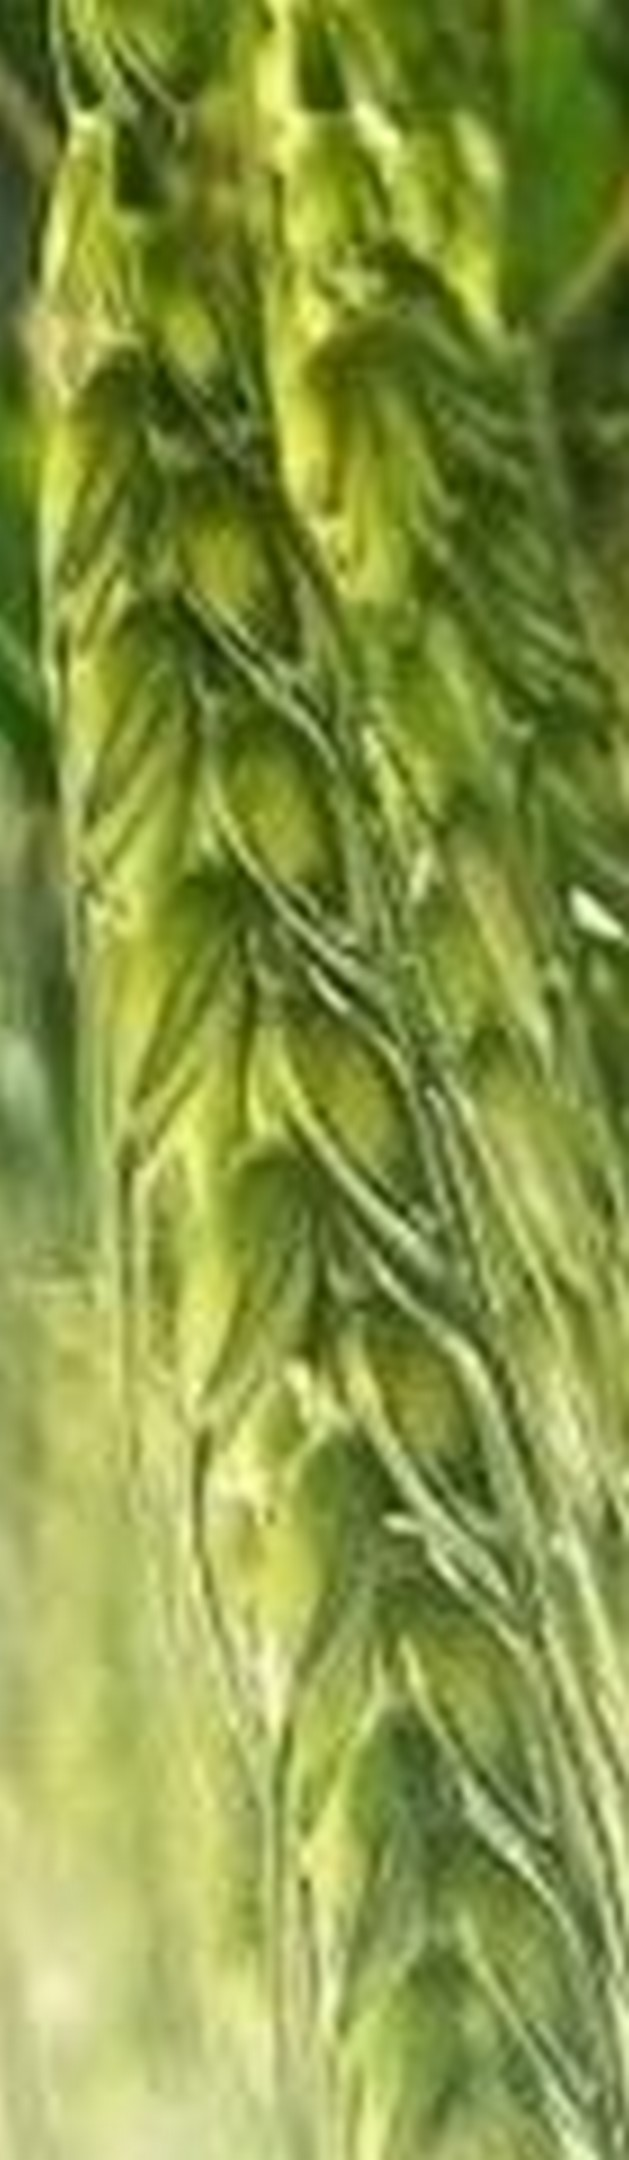Healthy Wheat: (48, 309, 629, 2160)
